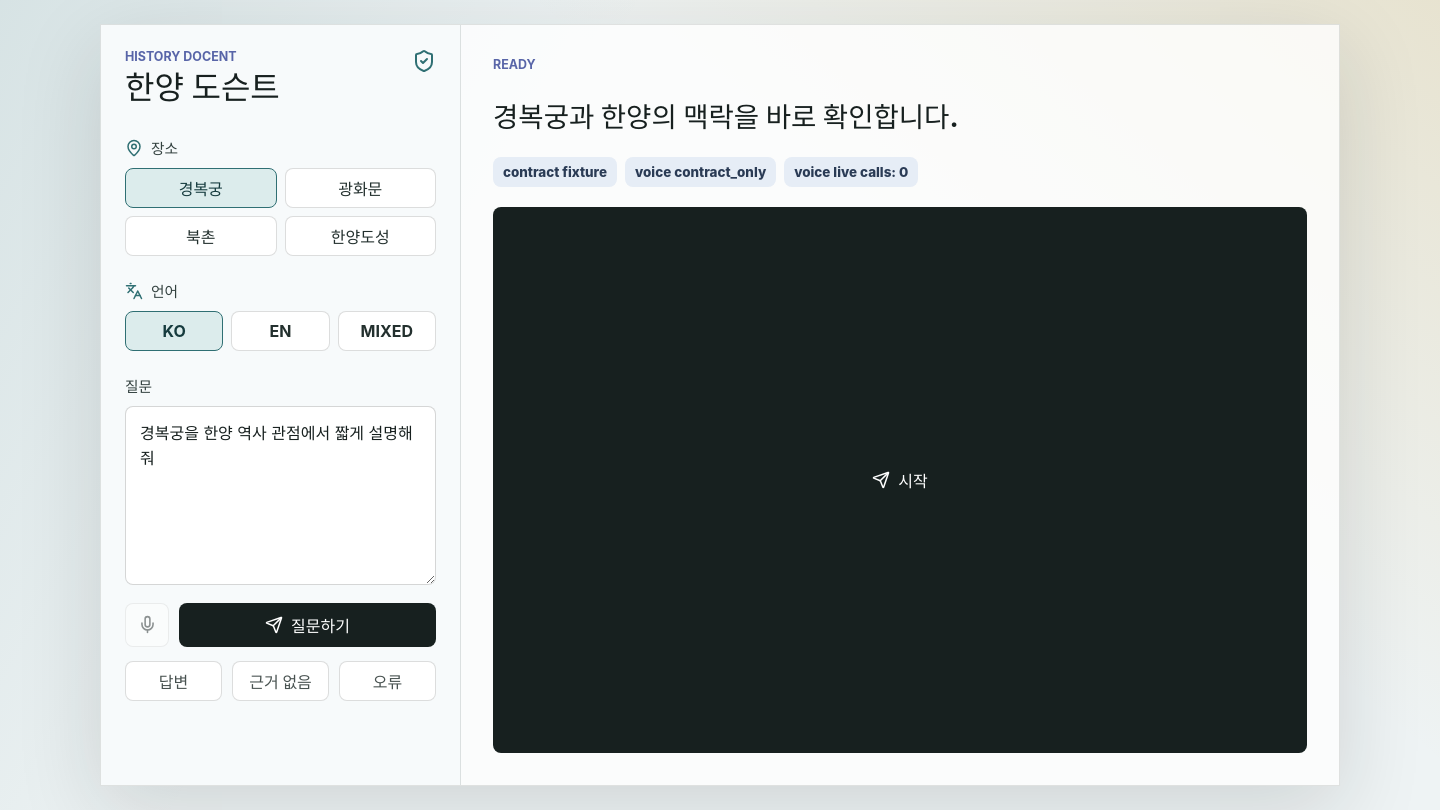
Test: History Docent voice UI skeleton › renders no-answer state without citations
This screenshot has width=1440, height=810.
What coordinates should you click on to do the following:
click the button "근거 없음"
I would click on:
 (280, 681)
Its box is x1=232 y1=661 x2=329 y2=701.
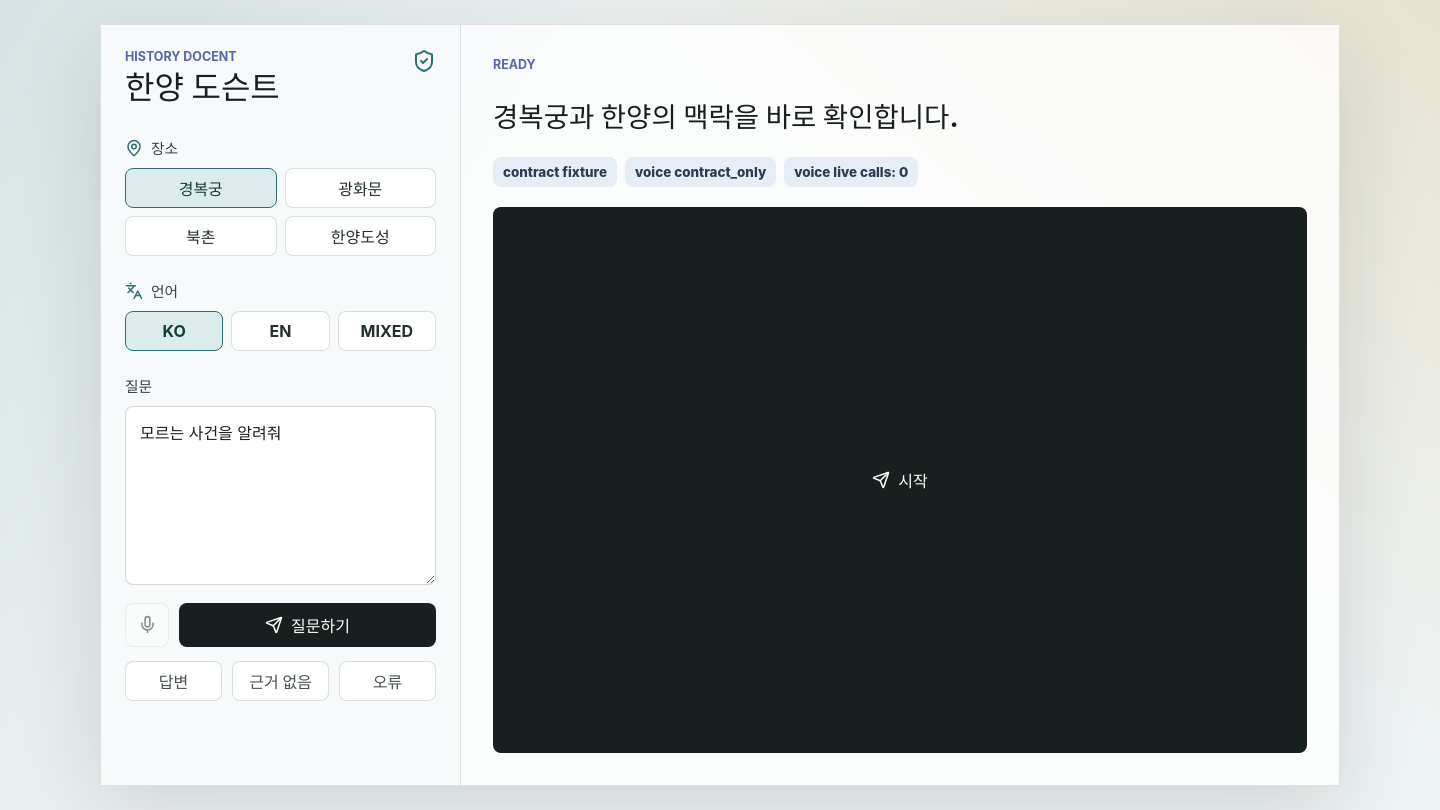
What coordinates should you click on to do the following:
click the button "질문하기"
I would click on:
 (308, 625)
Its box is x1=179 y1=603 x2=436 y2=647.
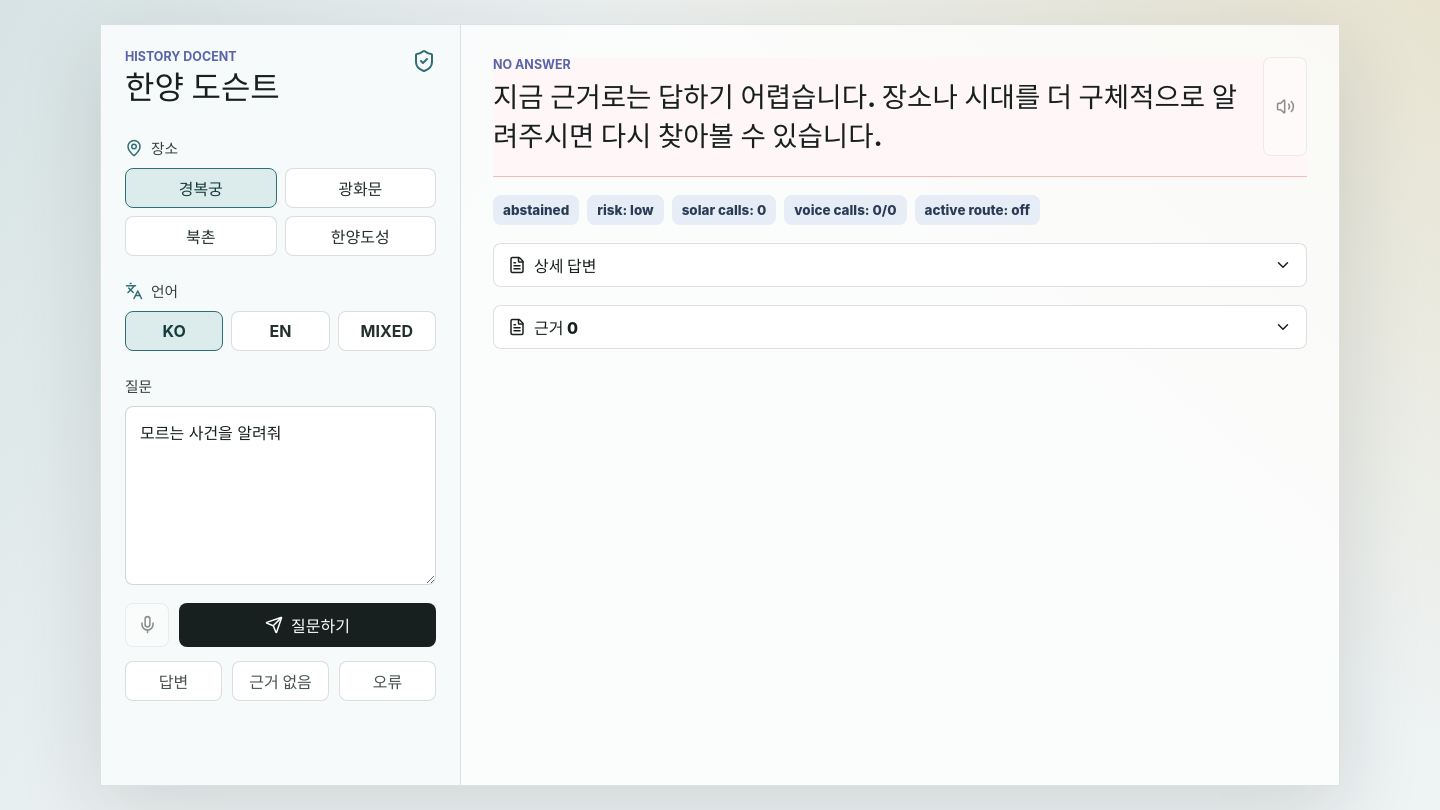
Check: the text "No answer" is shown, box x1=493 y1=57 x2=571 y2=72
Check: the heading "지금 근거로는 답하기 어렵습니다. 장소나 시대를 더 구체적으로 알려주시면 다시 찾아볼 수 있습니다." is shown, box x1=493 y1=78 x2=1245 y2=156
Check: the text "근거 0" is shown, box x1=534 y1=315 x2=578 y2=339
